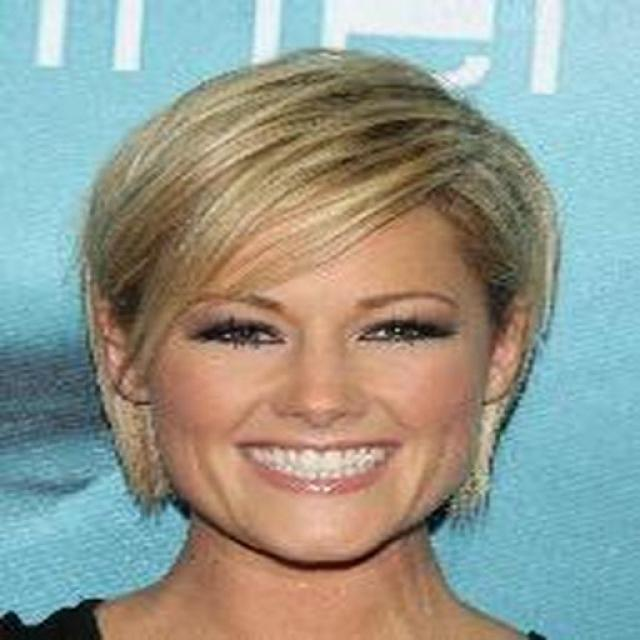bareface: (98, 128, 513, 578)
